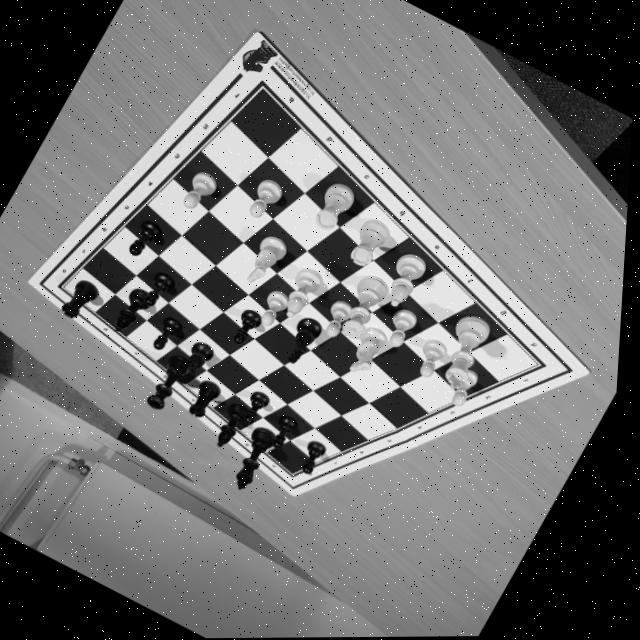chessboard: (64, 87, 549, 475)
